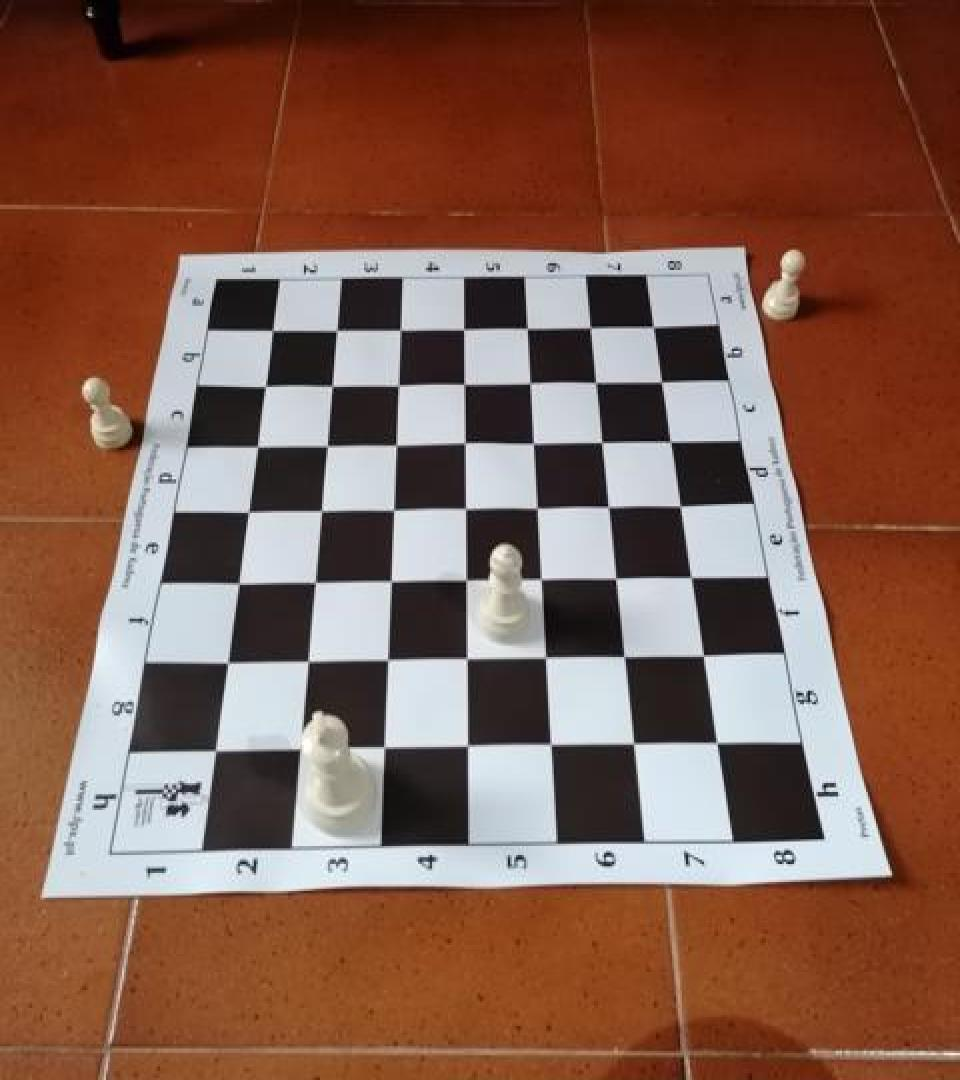xcorner: (637, 309, 667, 343), (575, 309, 605, 343), (513, 309, 543, 343), (646, 362, 676, 396), (581, 363, 611, 397), (516, 363, 546, 397), (451, 364, 481, 398), (385, 364, 415, 398), (319, 366, 349, 400), (252, 366, 282, 400), (656, 422, 686, 456), (588, 422, 618, 456), (520, 423, 550, 457), (452, 424, 482, 458), (383, 424, 413, 458), (314, 425, 344, 459), (244, 426, 274, 460), (667, 486, 697, 520), (596, 486, 626, 520), (525, 487, 555, 521), (453, 488, 483, 522), (381, 489, 411, 523), (308, 490, 338, 524), (235, 492, 265, 526), (679, 556, 709, 590), (604, 557, 634, 591), (529, 559, 559, 593), (454, 560, 484, 594), (378, 561, 408, 595), (302, 562, 332, 596), (226, 564, 256, 598), (692, 634, 722, 668), (535, 636, 565, 670), (455, 639, 485, 673), (376, 640, 406, 674), (296, 642, 326, 676), (215, 644, 245, 678), (706, 721, 736, 755), (624, 722, 654, 756), (457, 726, 487, 760), (373, 729, 403, 763), (288, 730, 318, 764), (203, 732, 233, 766), (450, 311, 480, 344), (387, 311, 417, 344), (324, 311, 354, 344), (260, 312, 290, 345), (613, 636, 643, 669), (541, 725, 571, 758)
